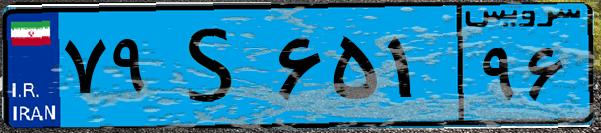1: (385, 28, 445, 110)
5: (330, 28, 385, 110)
6: (270, 28, 330, 110), (525, 38, 570, 115)
7: (57, 26, 110, 100)
9: (475, 38, 525, 113), (110, 28, 158, 98)
S: (158, 12, 270, 120)
